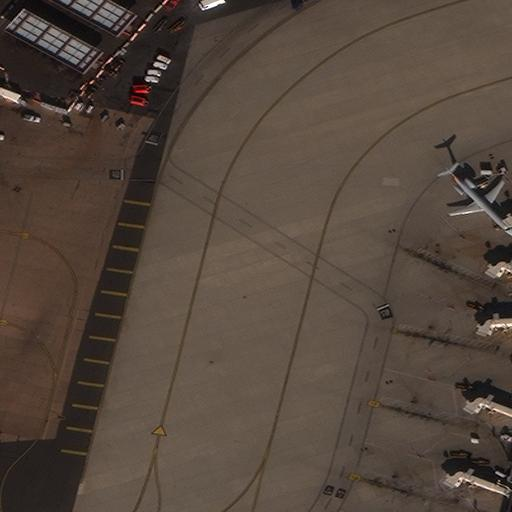Medium Civil Transport: (444, 166, 511, 236)
